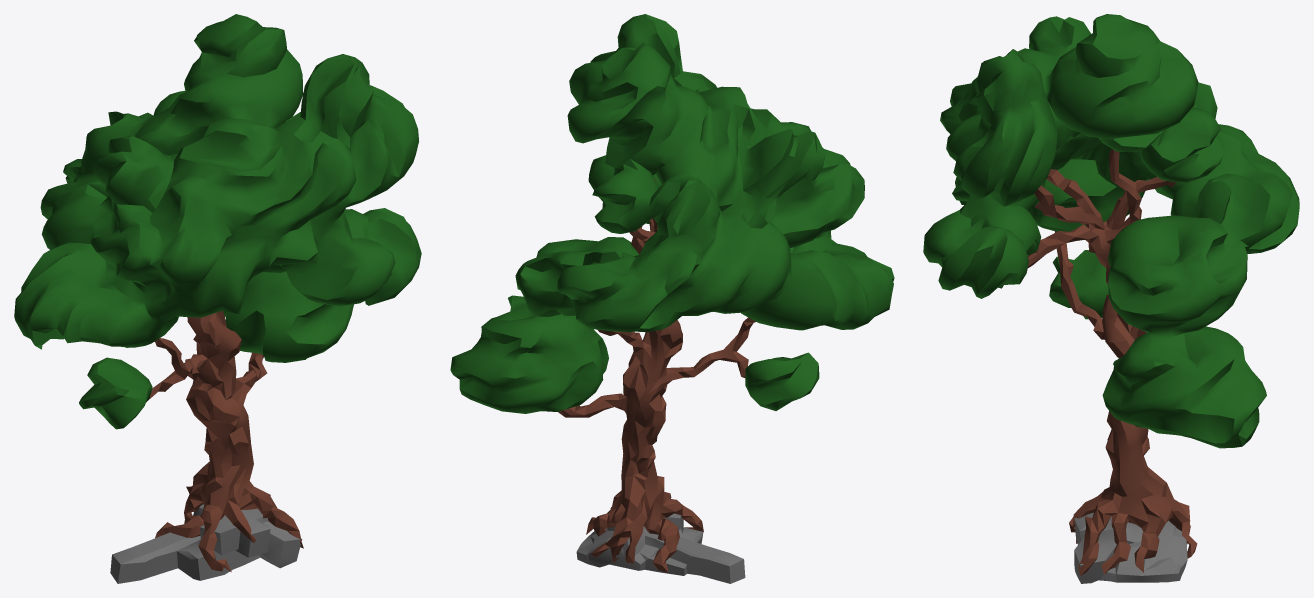
Rendered from tree001.fbx.
3 views of the same model, side by side, from view 1: azimuth 30°, elevation 25°; view 2: azimuth 150°, elevation 25°; view 3: azimuth 270°, elevation 25° (orthographic). The views are drawn at different scales.
Visible parts, largest first — view 1: leaves, trunk, rocks; view 2: leaves, trunk, rocks; view 3: leaves, trunk, rocks.
Boxes of the visible parts, x1=… form: leaves: x1=14, y1=14, x2=421, y2=429; trunk: x1=148, y1=311, x2=303, y2=572; rocks: x1=110, y1=504, x2=302, y2=583; leaves: x1=450, y1=14, x2=894, y2=413; trunk: x1=558, y1=179, x2=755, y2=572; rocks: x1=576, y1=513, x2=745, y2=583; leaves: x1=923, y1=14, x2=1299, y2=448; trunk: x1=1027, y1=149, x2=1197, y2=575; rocks: x1=1074, y1=512, x2=1187, y2=583.
Size of the model in its own units: 1.33 by 1.77 by 1.09.
